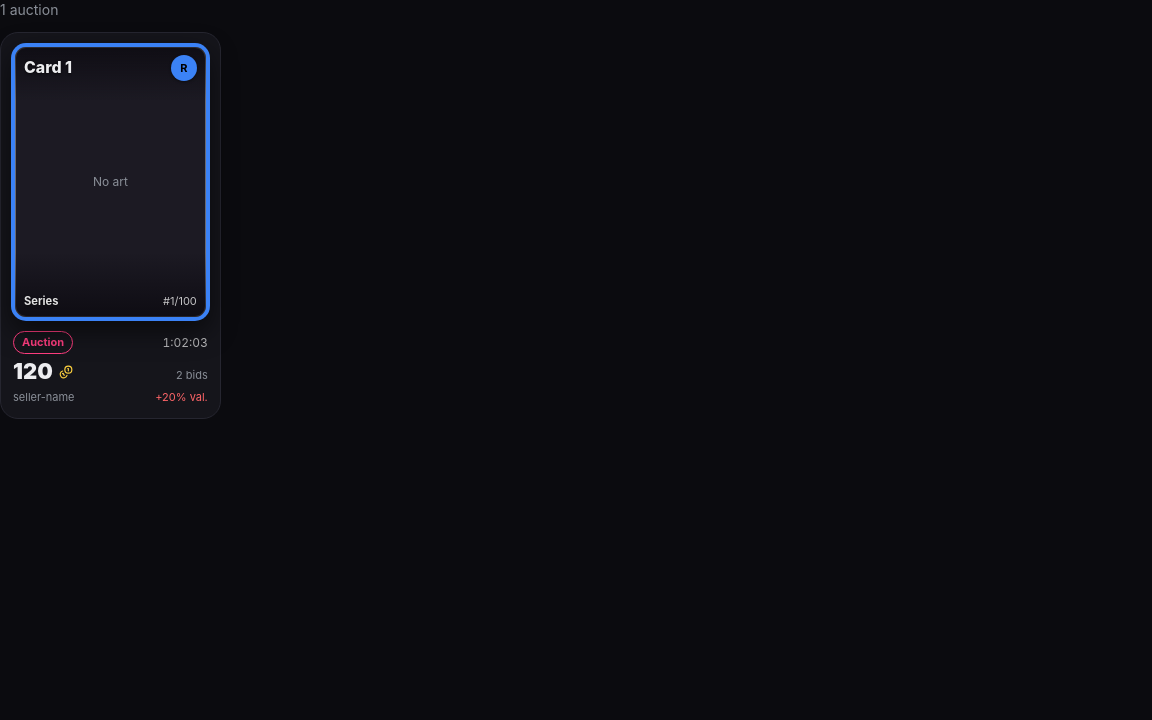
Test: auction lot modal › prefills the minimum, offers quick amounts and shows the balance after
Click the button with aria-label "Bid on Card 1" at (110, 225), box [0,32,221,419]
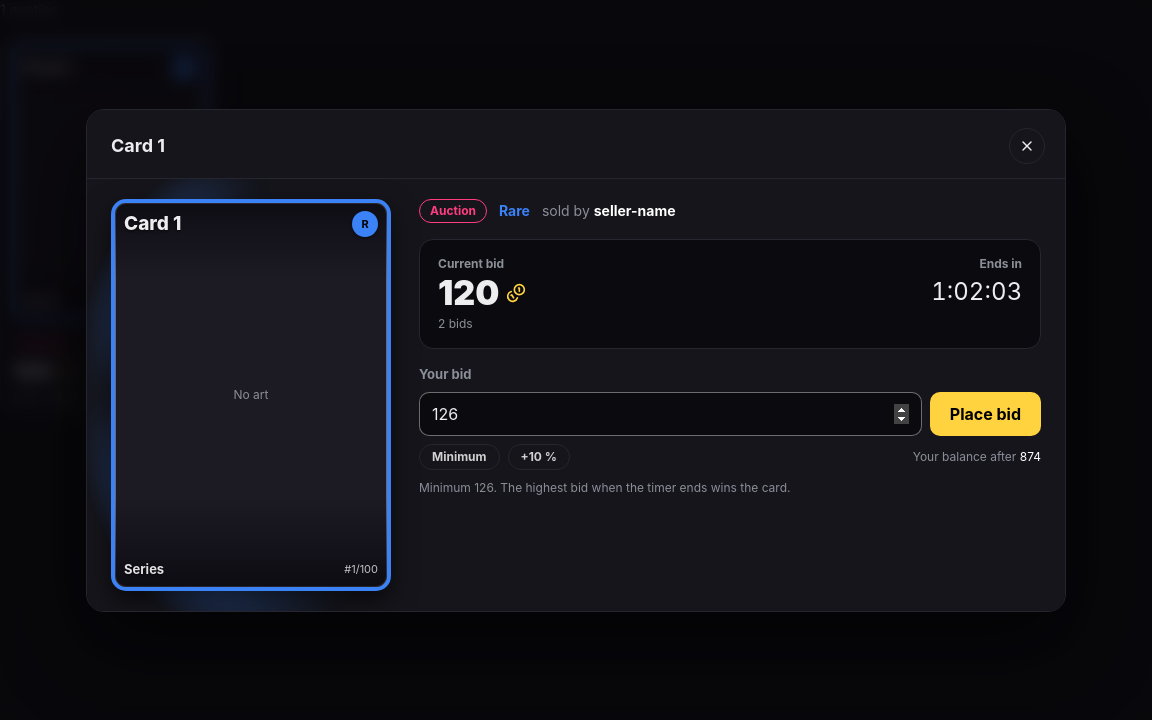
expect the number field labelled "Your bid" holds "126": met, box [419,392,922,436]
expect the dialog shows "874": met, box [1020,449,1041,464]
Click the button "+10 %" at (539, 457), box [508,444,570,470]
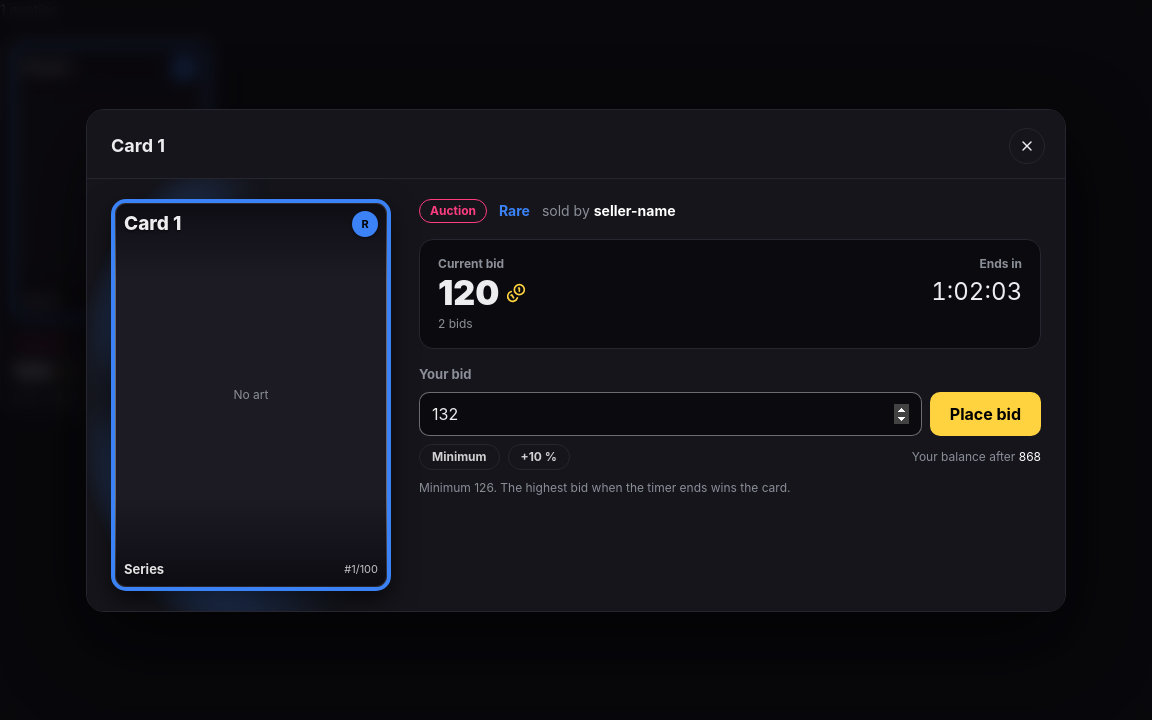
expect the number field labelled "Your bid" holds "132": met
expect the dialog shows "868": met, box [1019,449,1041,464]
Replace the text in the number field labelled "Your bid" with "500" at (670, 414), box [419,392,922,436]
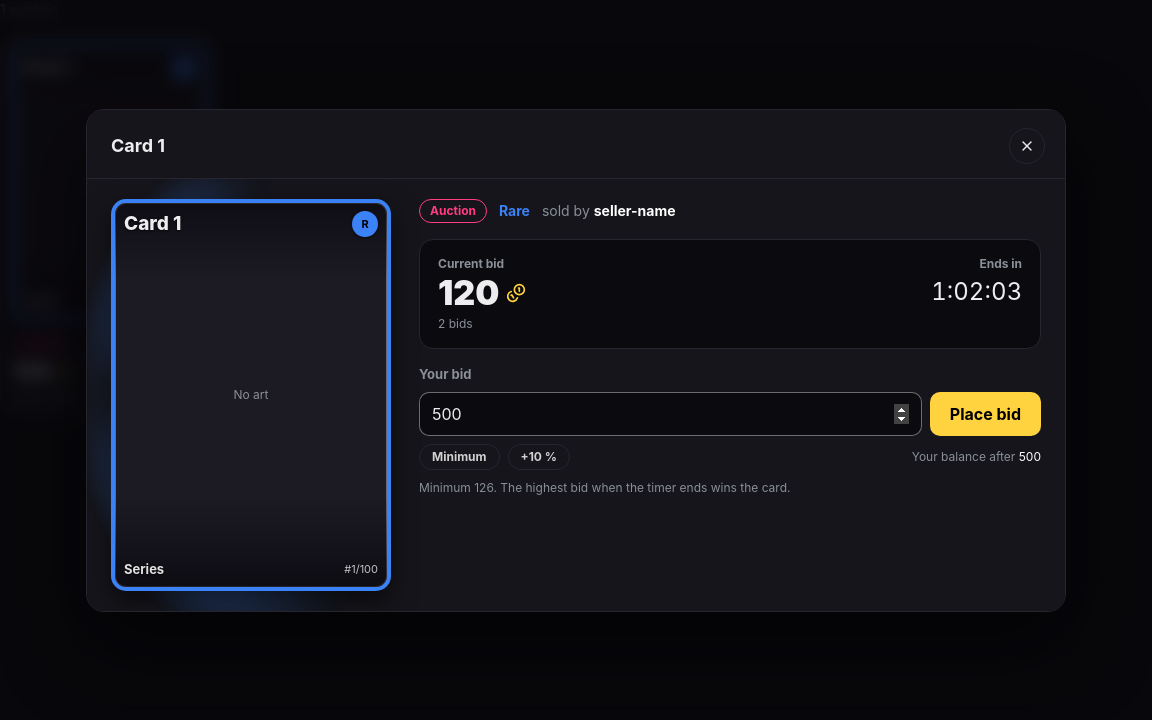
Click the button "Minimum" at (459, 457), box [419,444,500,470]
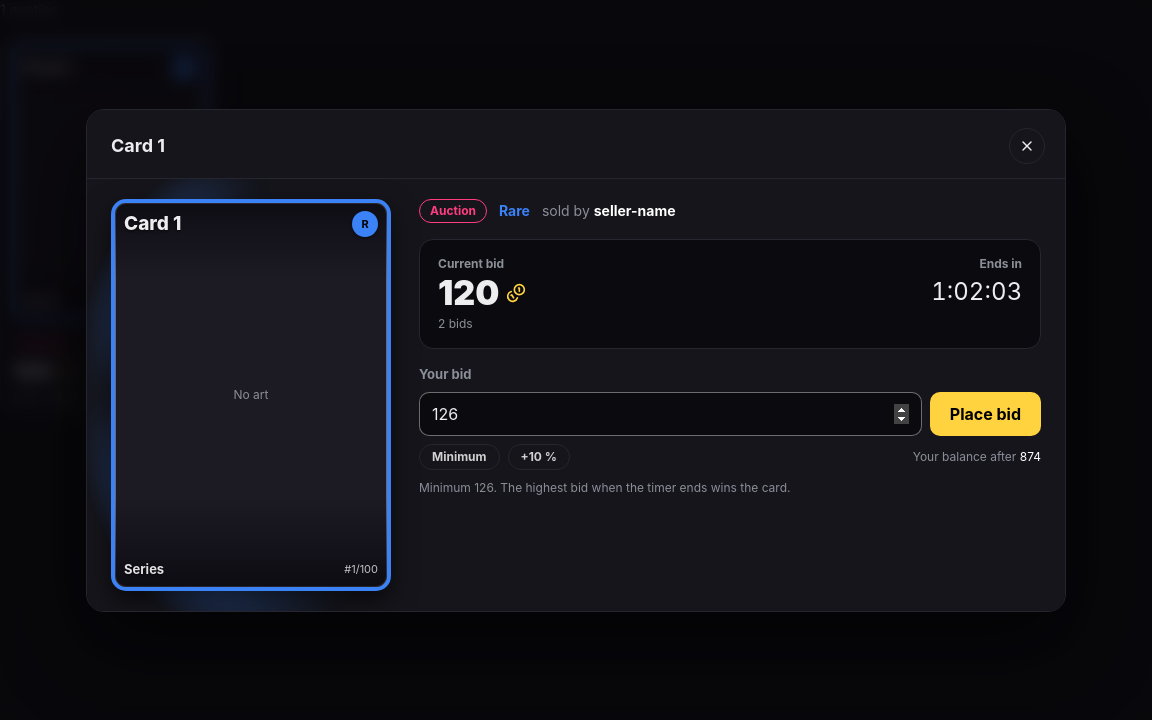
expect the number field labelled "Your bid" holds "126": met
Replace the text in the number field labelled "Your bid" with "125" at (670, 414), box [419,392,922,436]
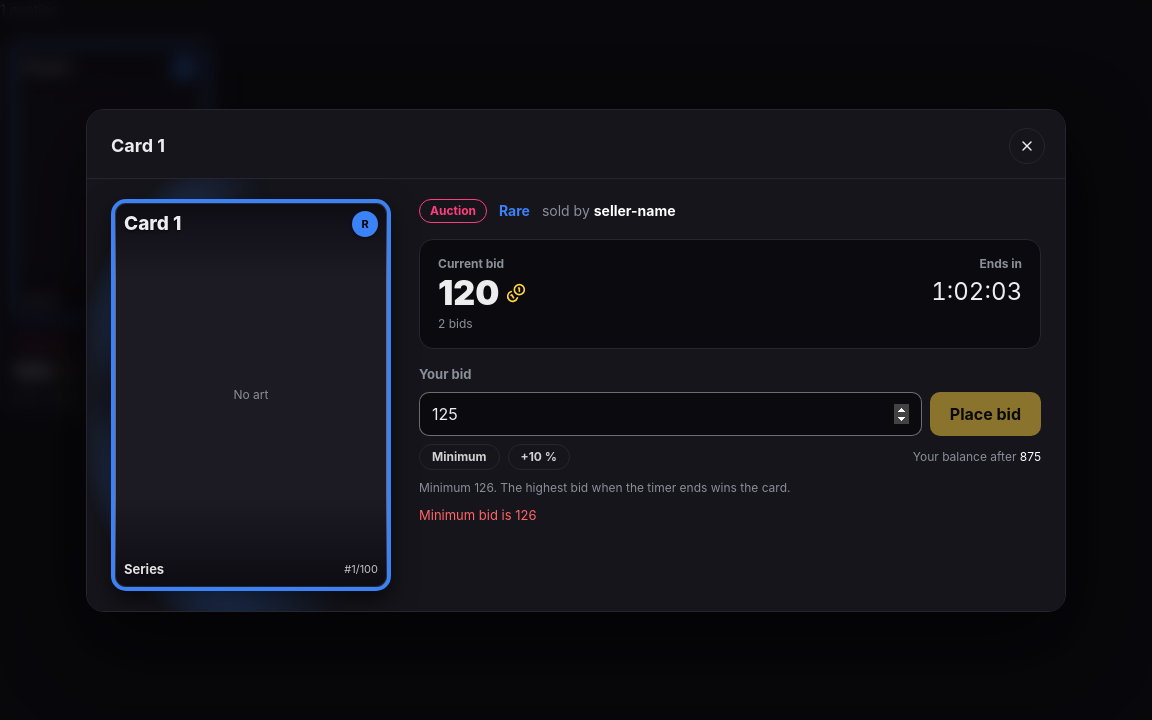
expect the dialog shows "Minimum bid is 126": met, box [419,506,536,522]
expect the button "Place bid" is disabled: met, box [930,392,1041,436]
